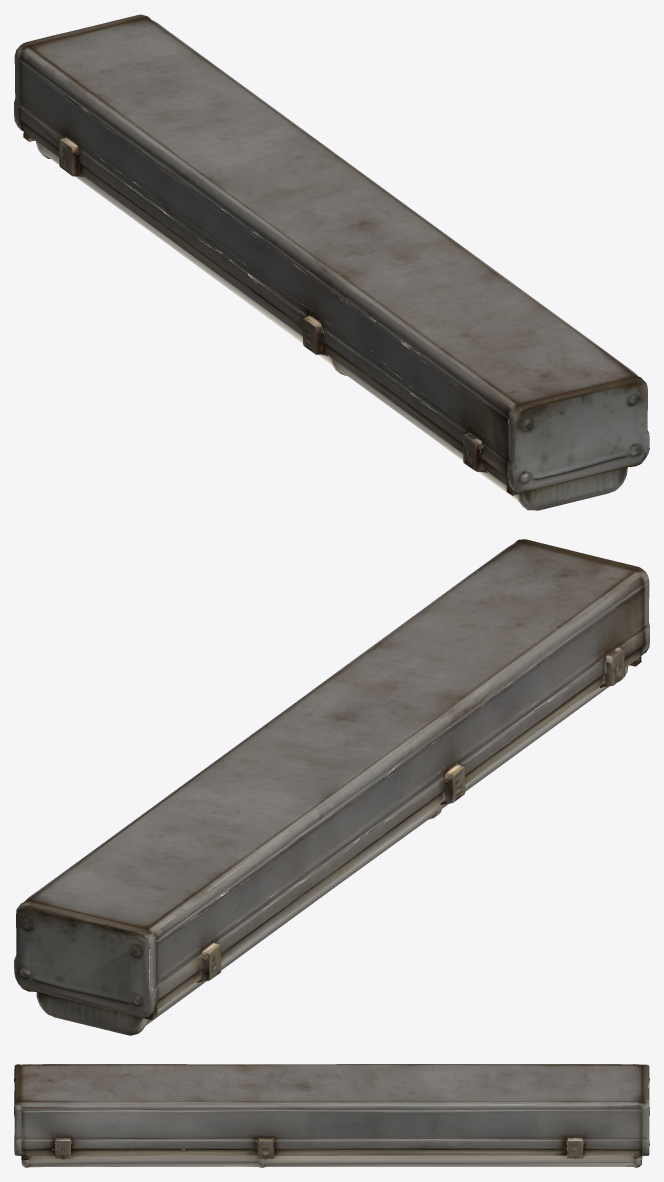
Rendered from light.glb.
3 renders of one model, top to bottom at view 1: azimuth 30°, elevation 25°; view 2: azimuth 150°, elevation 25°; view 3: azimuth 270°, elevation 25°, orthographic. The views are drawn at different scales.
Visible parts, largest first — view 1: node_0; view 2: node_0; view 3: node_0.
Boxes of the visible parts, bbox=[...] form: node_0: bbox=[14, 14, 649, 510]; node_0: bbox=[14, 539, 649, 1035]; node_0: bbox=[14, 1064, 649, 1167].
Bounding box in the file's own units: 0.2032 × 0.15 × 1.18.
1 material, 1 textured.
